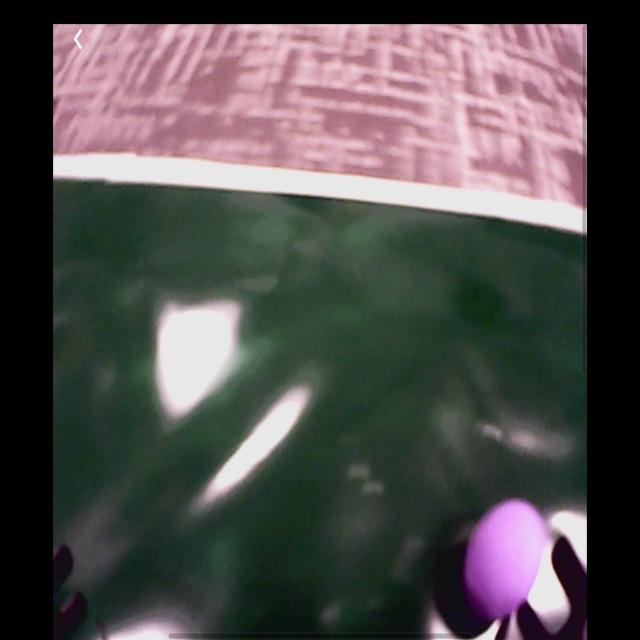ball: (466, 500, 550, 622)
